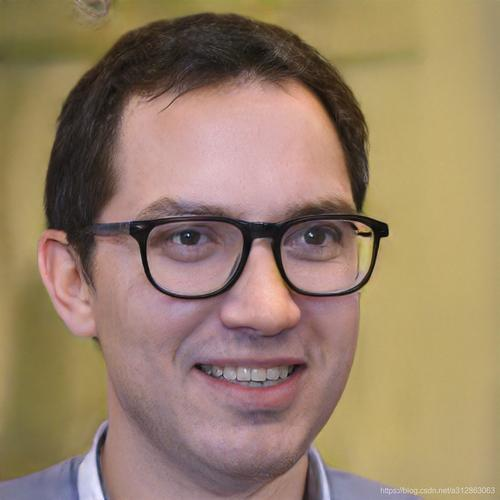no_mask: (87, 65, 384, 463)
